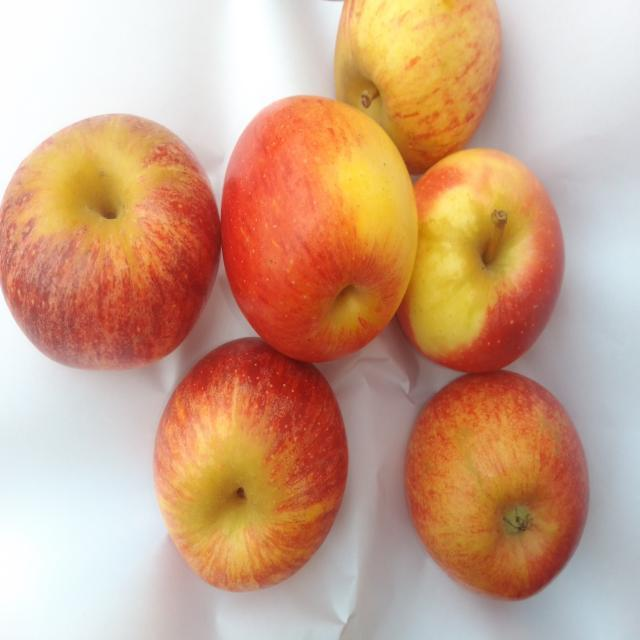Fresh Apple: (5, 115, 220, 368), (222, 112, 410, 340), (162, 352, 340, 583), (407, 373, 588, 597), (413, 145, 560, 377), (316, 0, 511, 158)
